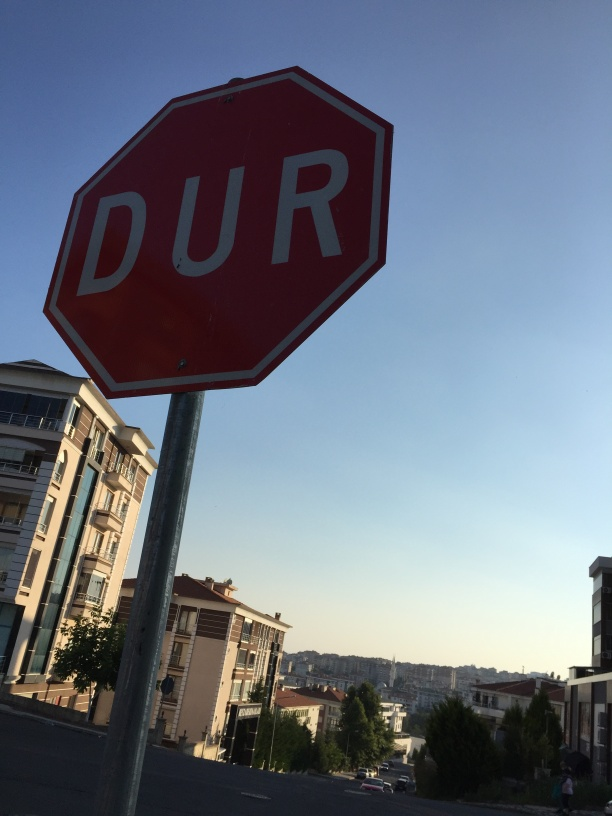arac_dur_isareti: (41, 62, 413, 612), (58, 76, 411, 610)
